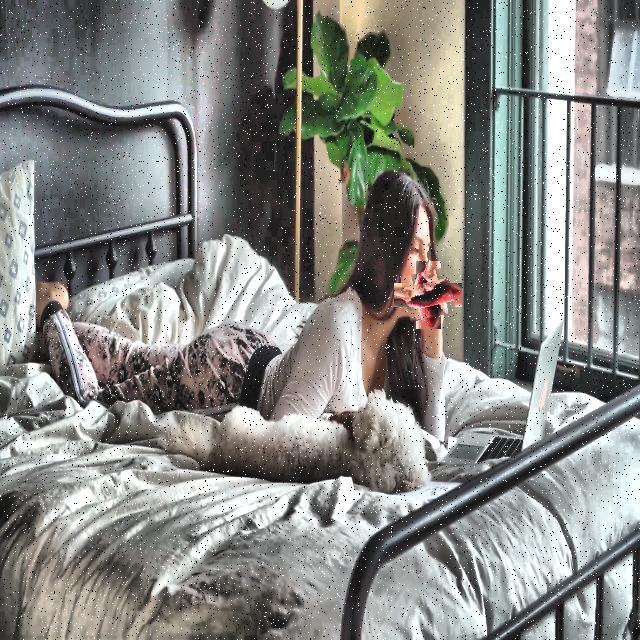Phone: (403, 270, 454, 320)
